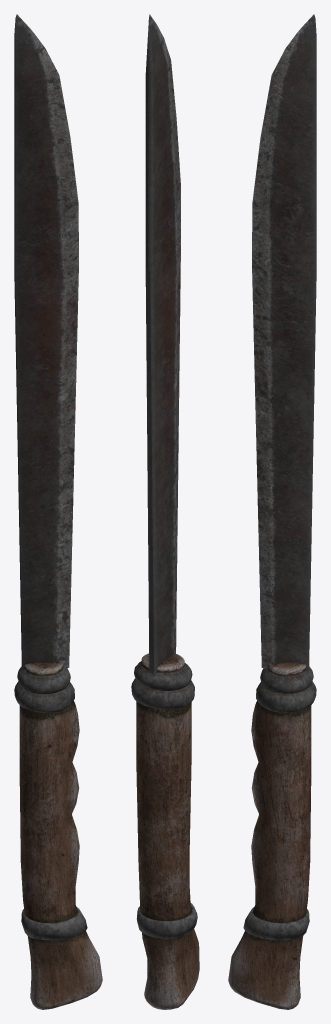
File: machete_ph.glb
The picture shows the model from 3 angles, left to right: view 1: azimuth 90°, elevation 25°; view 2: azimuth 150°, elevation 25°; view 3: azimuth 270°, elevation 25°; orthographic projection.
Visible parts, largest first — view 1: machete; view 2: machete; view 3: machete.
Boxes of the visible parts, x1,y1,x2,y2 form: machete: (14, 14, 102, 1009); machete: (131, 14, 199, 1009); machete: (228, 14, 316, 1009).
Size of the model in its own units: 0.0244 by 0.4151 by 0.0336.
Materials: 1 (1 with a texture image).
